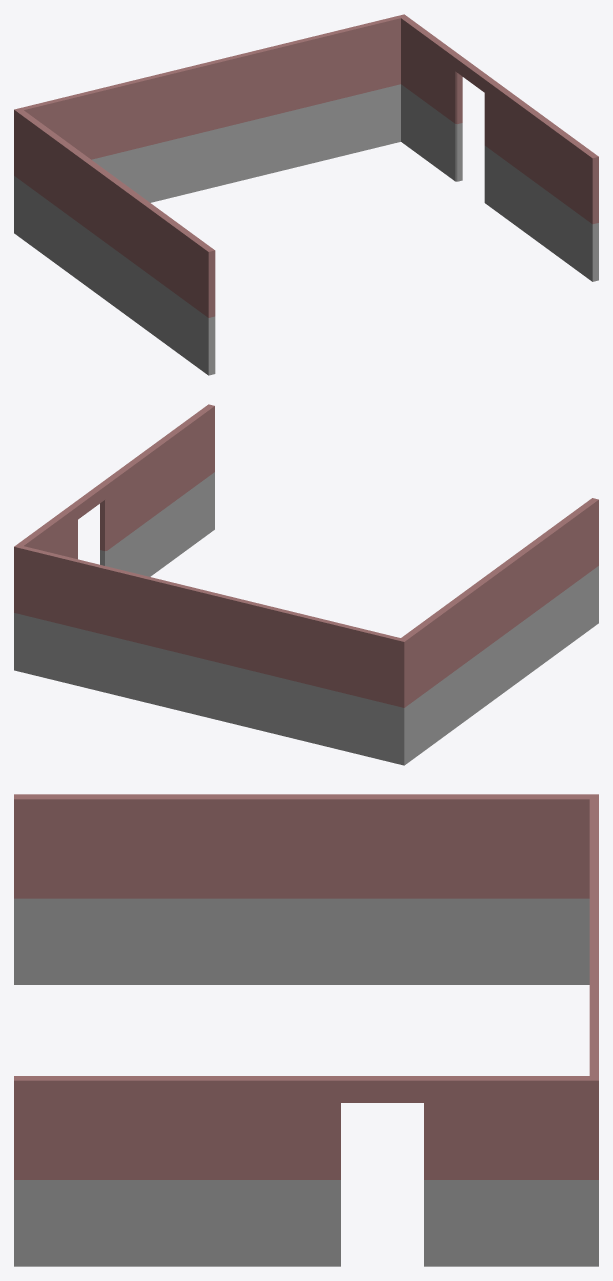
The model's file is level_02_walls.fbx.
The picture shows the model from 3 angles, top to bottom: view 1: azimuth 30°, elevation 25°; view 2: azimuth 150°, elevation 25°; view 3: azimuth 270°, elevation 25°; orthographic projection. The views are drawn at different scales.
Visible parts, largest first — view 1: walls1; view 2: walls1; view 3: walls1.
Part boxes in pixels (x1,y1,x2,y2): walls1: [14, 14, 598, 375]; walls1: [14, 404, 598, 765]; walls1: [14, 794, 598, 1266].
Bounding box in the file's own units: 16.5 × 4.99 × 14.24.
